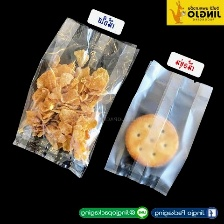snack: (6, 12, 145, 183), (98, 55, 220, 201)
